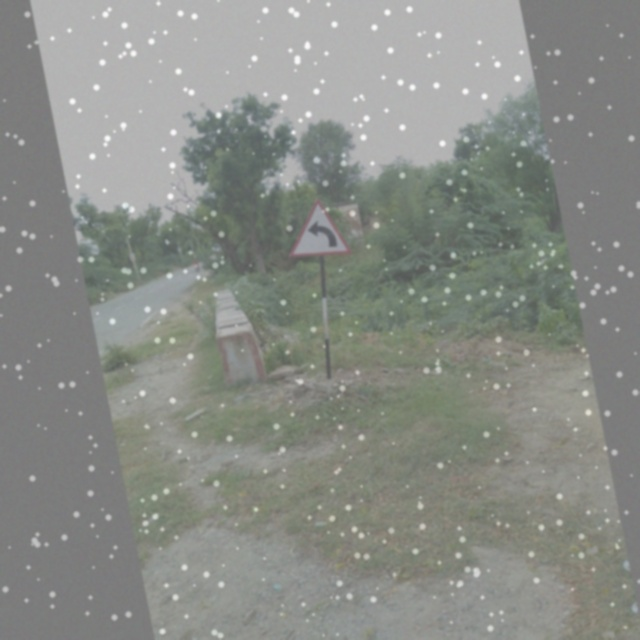Left_Hand_Curve: (278, 193, 358, 271)
